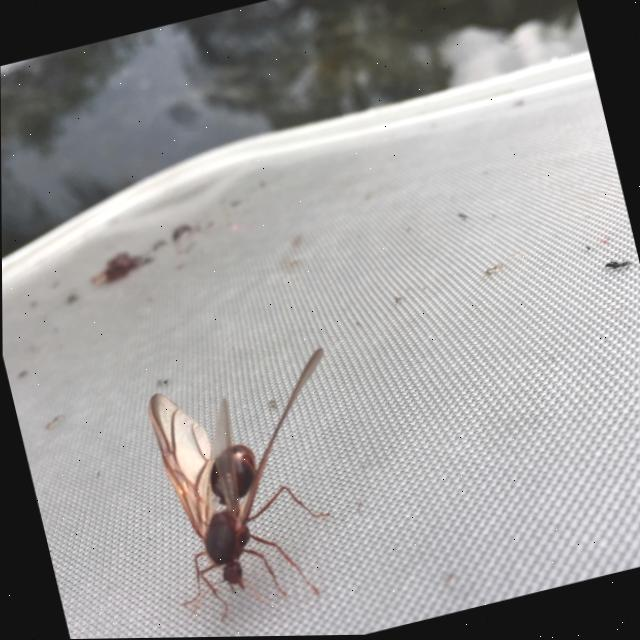Alive-Male-Alate: (130, 346, 379, 633)
